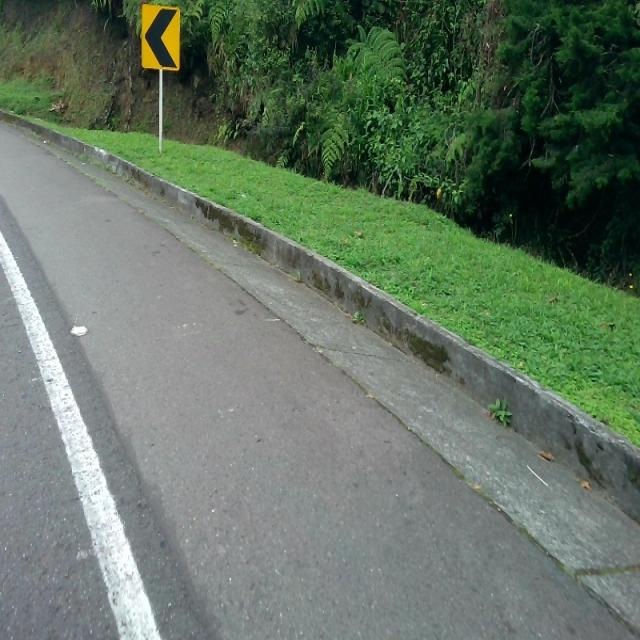DITCH: (1, 81, 639, 638), (1, 111, 639, 638)
